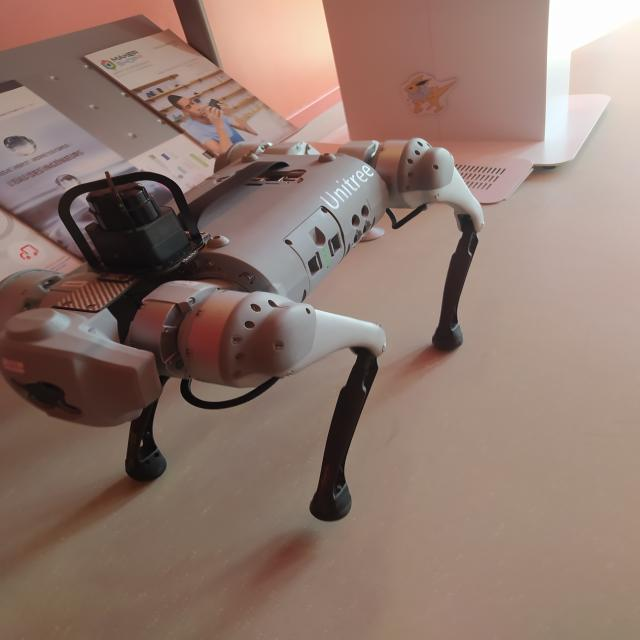unitree-go1-robot: (8, 118, 492, 543)
